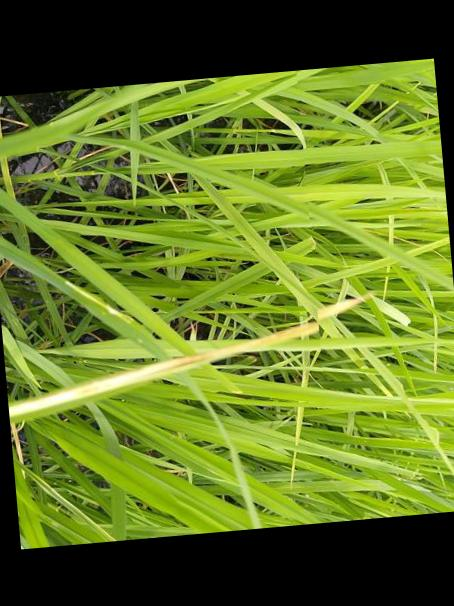Leaf Blight: (8, 294, 360, 424)
